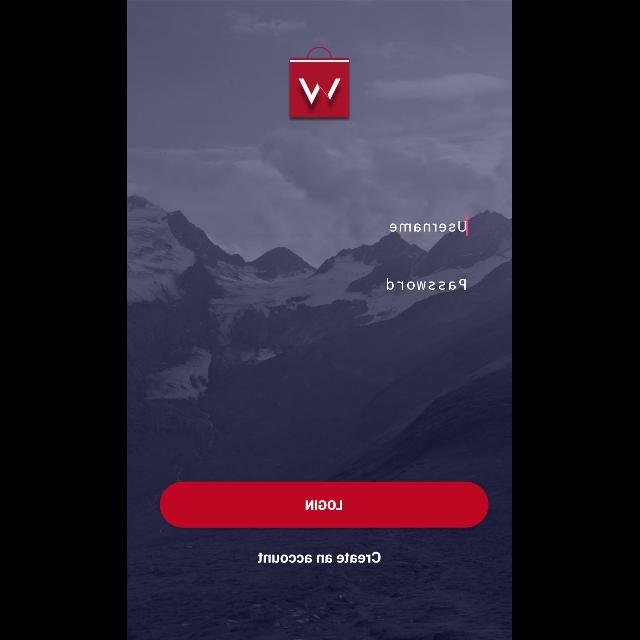backgroundimage: (128, 1, 512, 640)
image: (290, 47, 350, 119)
input: (151, 216, 489, 237), (151, 279, 489, 295)
text: (258, 551, 382, 563), (388, 278, 467, 290), (390, 222, 468, 232)
textbutton: (160, 482, 490, 528)
